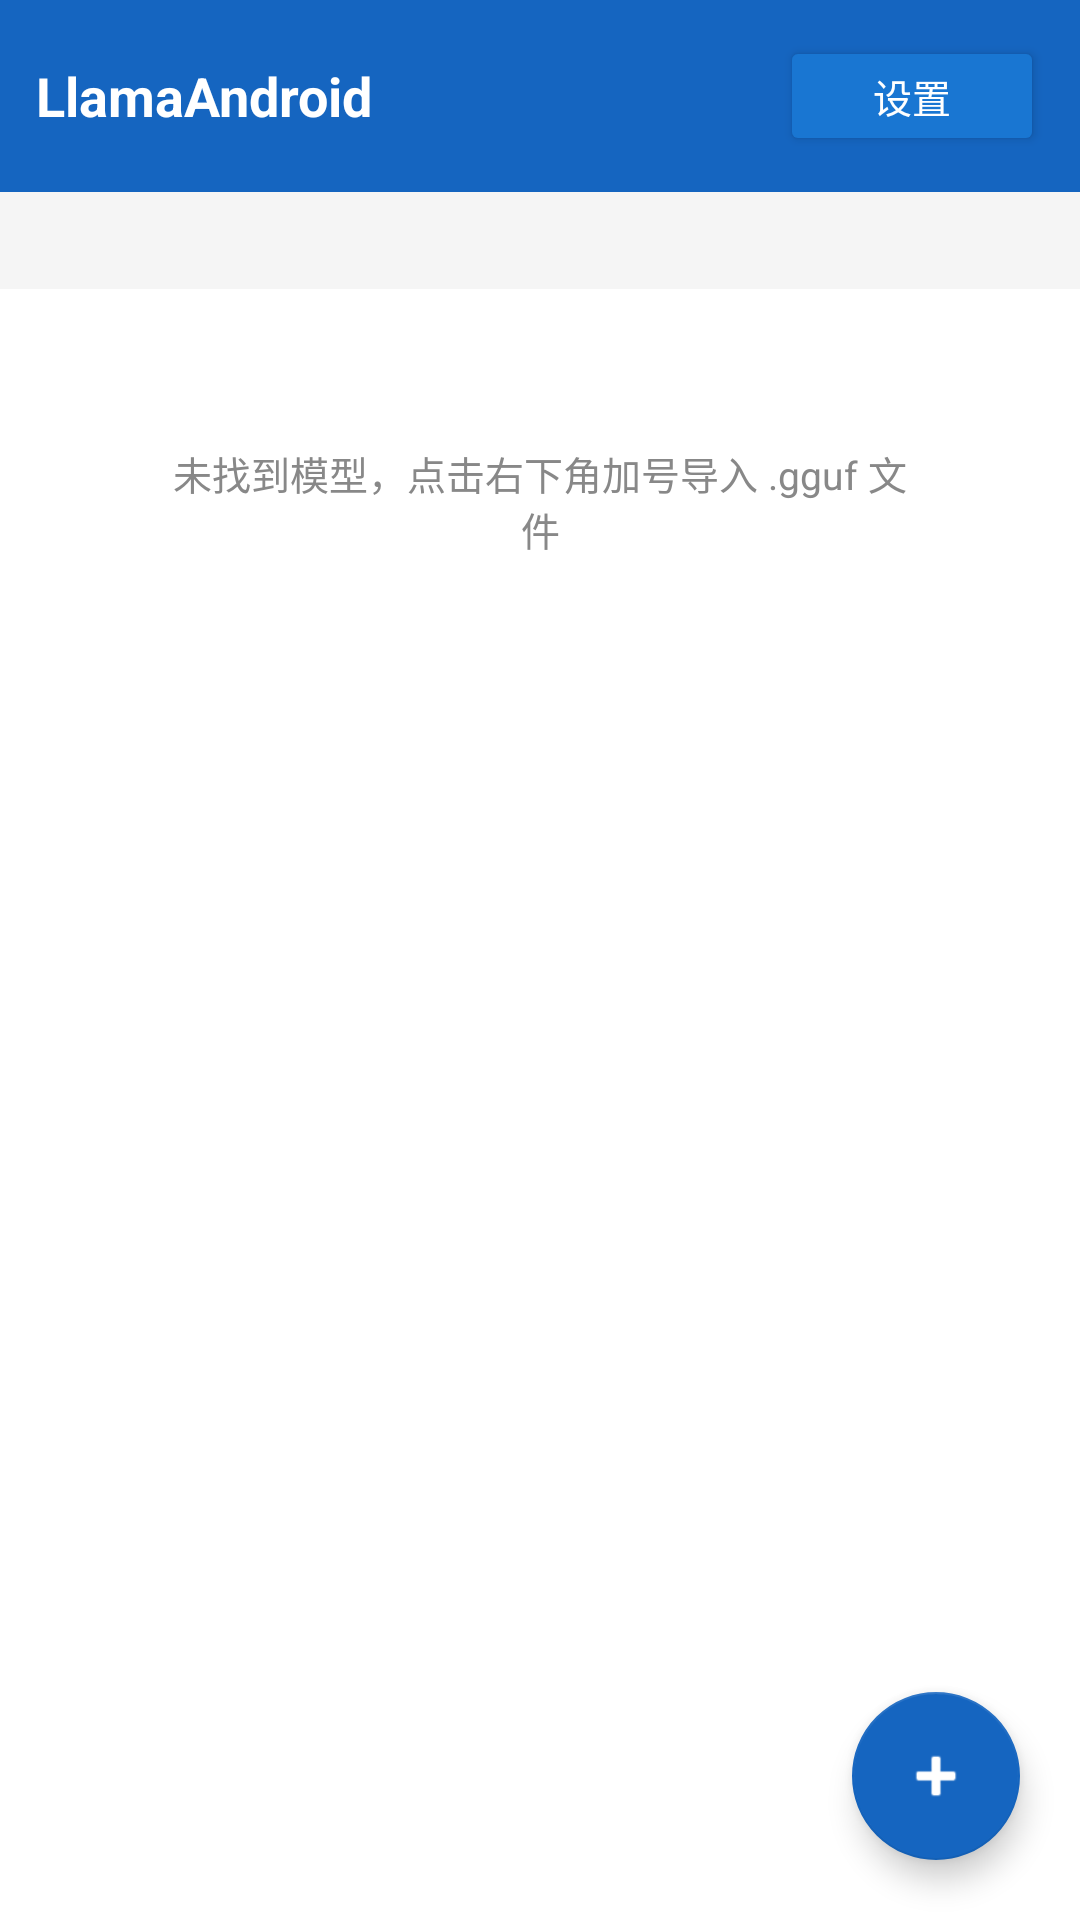

Icons on this 1080w x 1920h Android screen, each with the point to tap as [x,y]:
导入模型: [936,1776]
